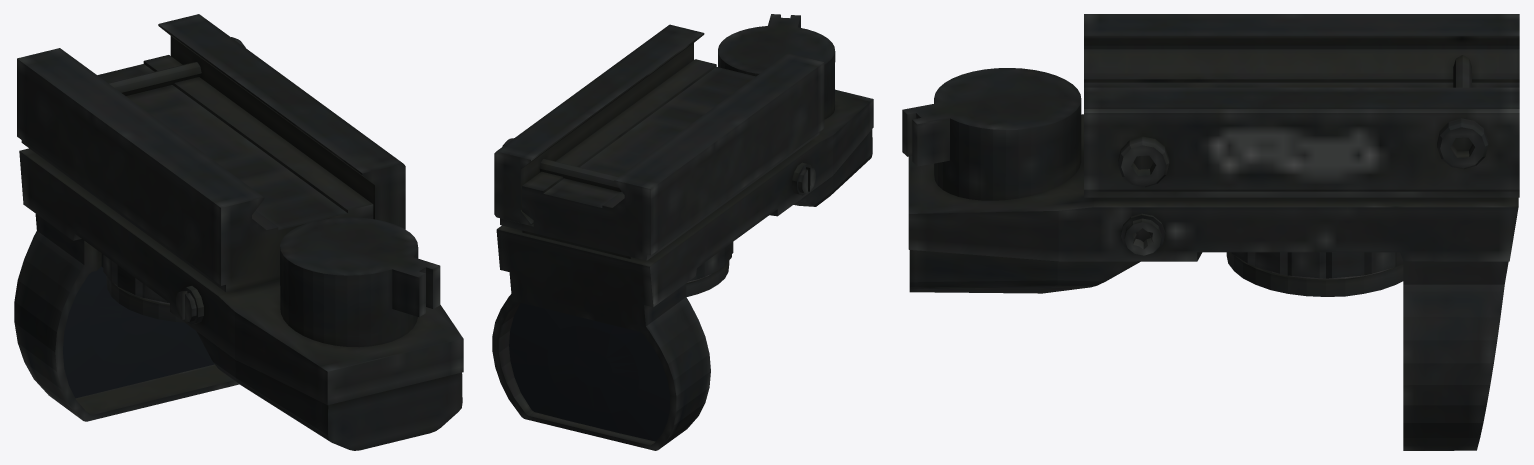
3 views of the same model, side by side, from view 1: azimuth 30°, elevation 25°; view 2: azimuth 150°, elevation 25°; view 3: azimuth 270°, elevation 25° (orthographic). The views are drawn at different scales.
Parts seen in each view (by area): view 1: TW_570fd721d2720bc5458b4596_PZ_Import; view 2: TW_570fd721d2720bc5458b4596_PZ_Import; view 3: TW_570fd721d2720bc5458b4596_PZ_Import.
Boxes of the visible parts, x1,y1,x2,y2 form: TW_570fd721d2720bc5458b4596_PZ_Import: [14, 14, 463, 450]; TW_570fd721d2720bc5458b4596_PZ_Import: [492, 14, 873, 450]; TW_570fd721d2720bc5458b4596_PZ_Import: [902, 14, 1519, 450].
Size of the model in its own units: 0.0216 by 0.05 by 0.0312.
Materials: 1 (1 with a texture image).
